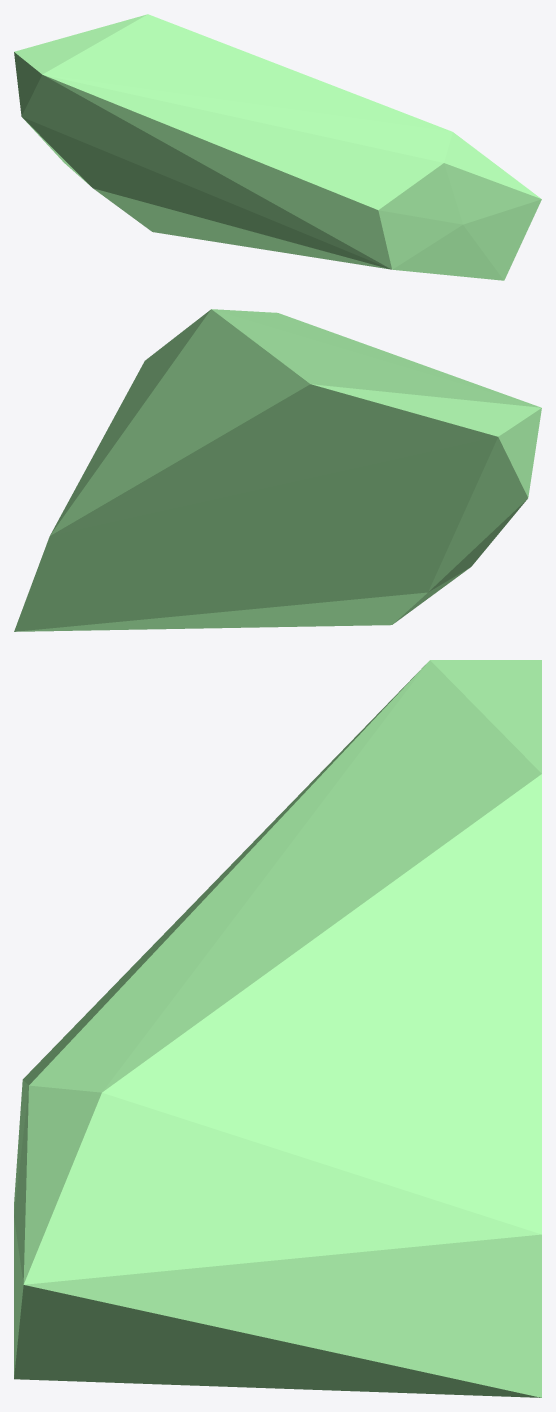
Rendered from UMIRobot_robot_base_coll_6.dae.
3 views of the same model, one above another, from view 1: azimuth 30°, elevation 25°; view 2: azimuth 150°, elevation 25°; view 3: azimuth 270°, elevation 25° (orthographic). The views are drawn at different scales.
Visible parts, largest first — view 1: node; view 2: node; view 3: node.
Boxes of the visible parts, left/top/right/bottom form: node: left=14, top=14, right=541, bottom=280; node: left=14, top=309, right=541, bottom=631; node: left=14, top=660, right=541, bottom=1397.
Bounding box in the file's own units: 0.0216 × 0.0119 × 0.0132.
